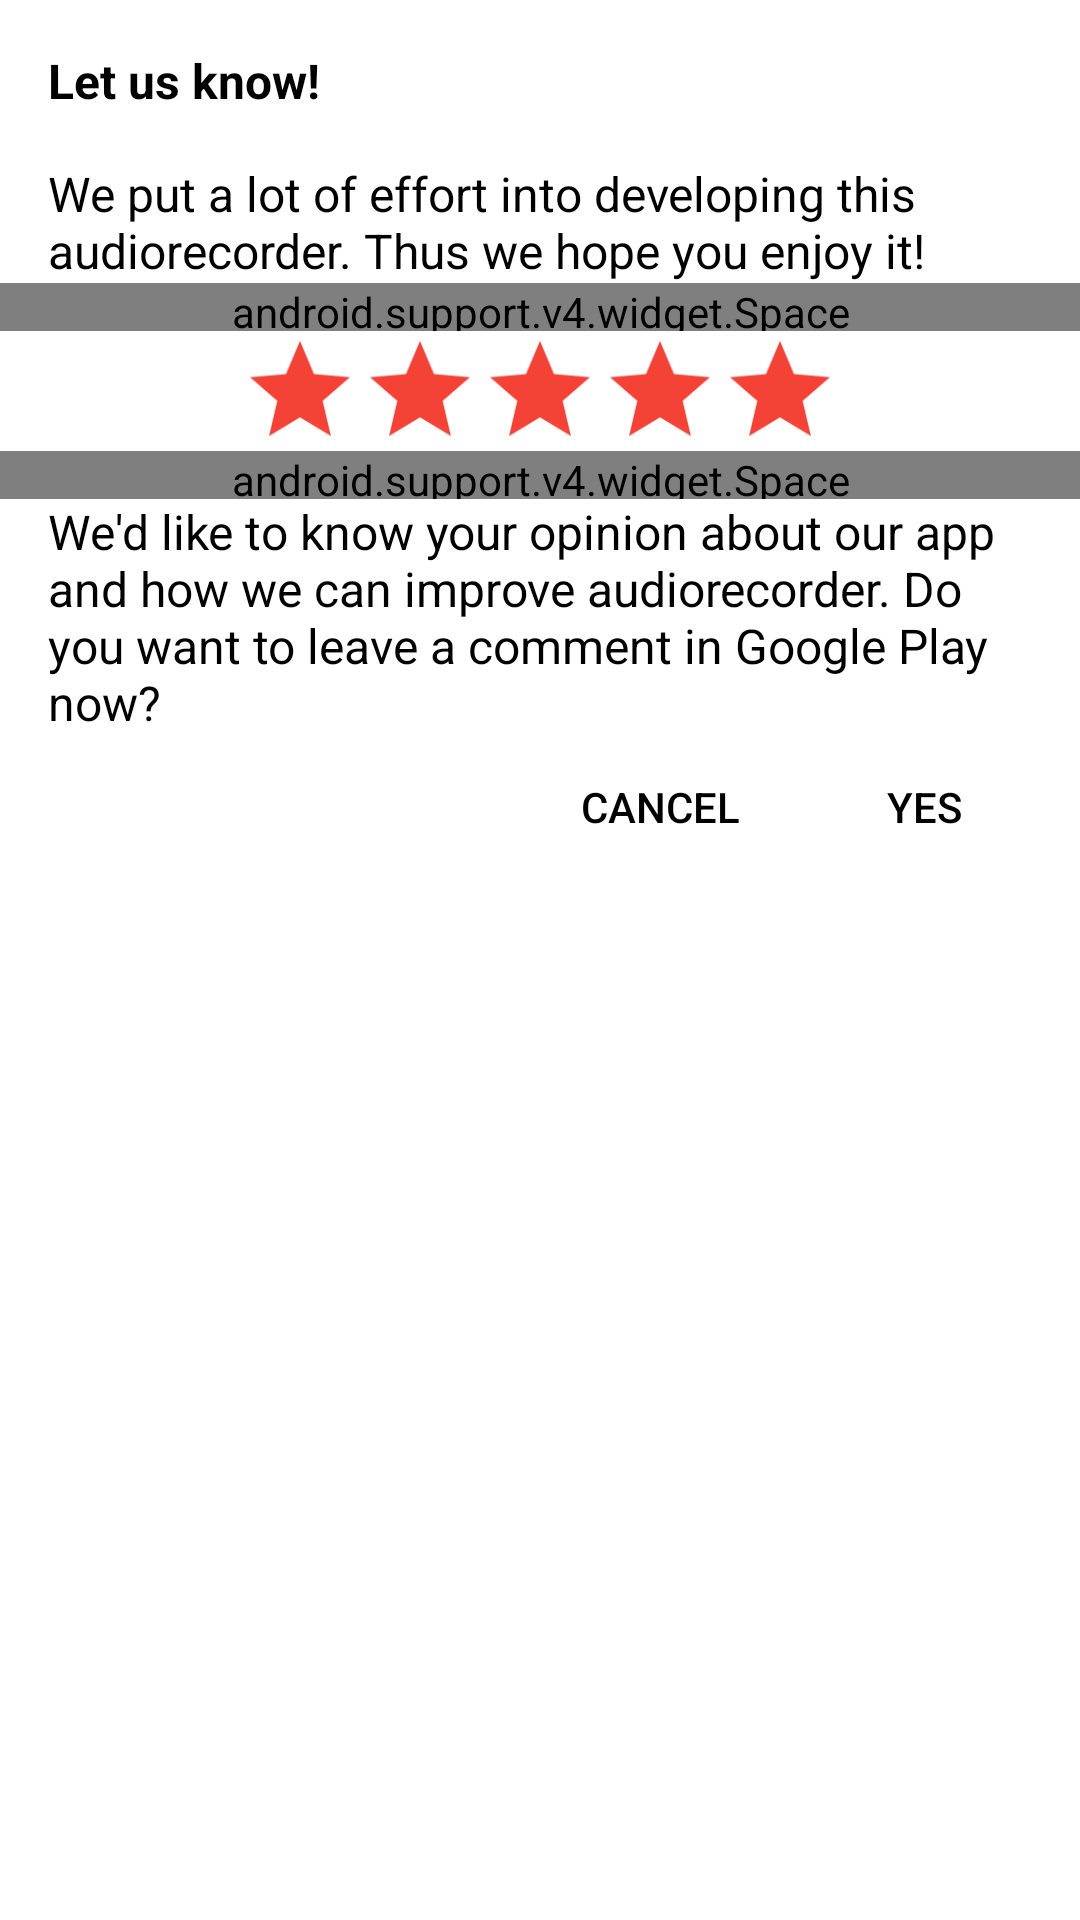

Named icons in this screenshot (1080px×1920px) and their centers, [x,y]:
star: [300,388], [420,388], [540,388], [660,388], [780,388]
